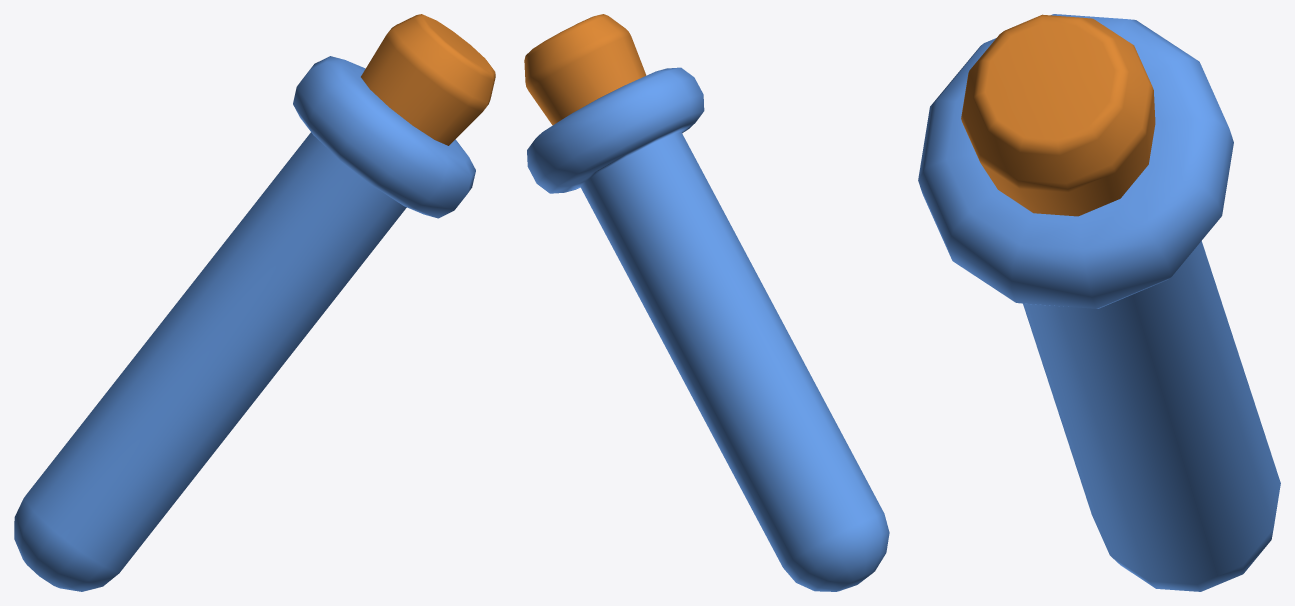
3 renders of one model, left to right at view 1: azimuth 30°, elevation 25°; view 2: azimuth 150°, elevation 25°; view 3: azimuth 270°, elevation 25°, orthographic. The views are drawn at different scales.
Visible parts, largest first — view 1: model_1.110; view 2: model_1.110; view 3: model_1.110.
Part boxes in pixels (x1=…): model_1.110: x1=14, y1=14, x2=495, y2=591; model_1.110: x1=524, y1=14, x2=889, y2=591; model_1.110: x1=918, y1=14, x2=1280, y2=591.
Size of the model in its own units: 3.46 by 4.04 by 1.68.
